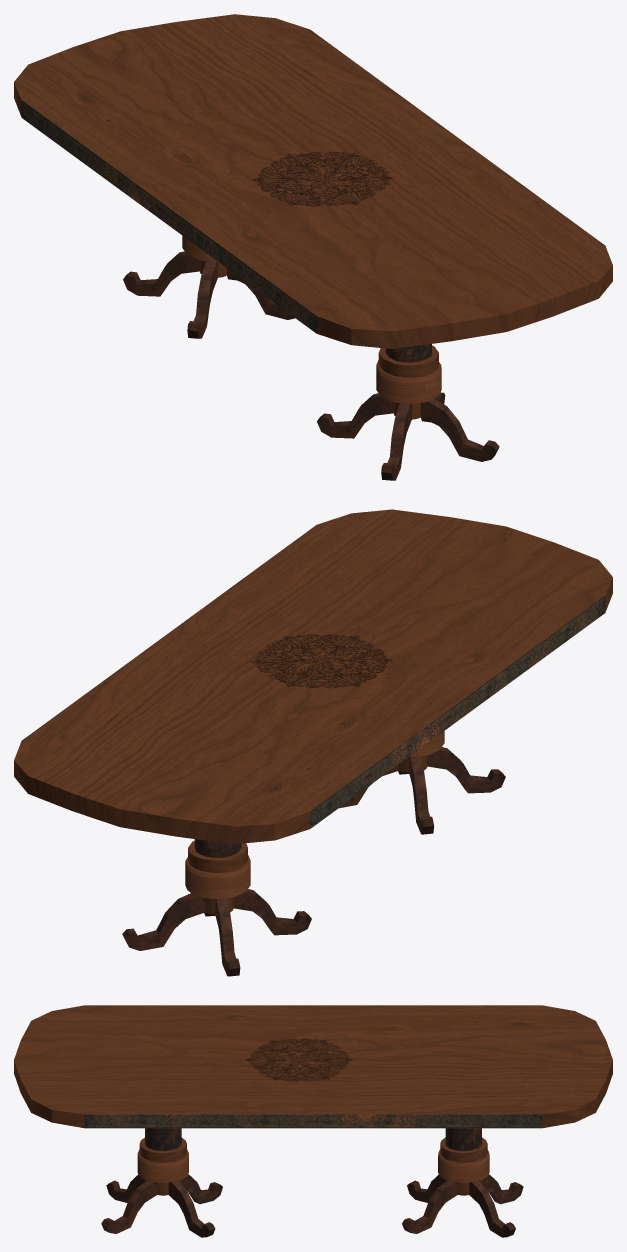
File: YuchenZ_DiningTable_Master.fbx
The picture shows the model from 3 angles, top to bottom: view 1: azimuth 30°, elevation 25°; view 2: azimuth 150°, elevation 25°; view 3: azimuth 270°, elevation 25°; orthographic projection. The views are drawn at different scales.
Visible parts, largest first — view 1: polySurface1; view 2: polySurface1; view 3: polySurface1.
Part boxes in pixels (x1,y1,x2,y2): polySurface1: (14, 14, 612, 480); polySurface1: (14, 509, 612, 976); polySurface1: (14, 1005, 612, 1237).
Size of the model in its own units: 8.42 by 5.65 by 19.51.
